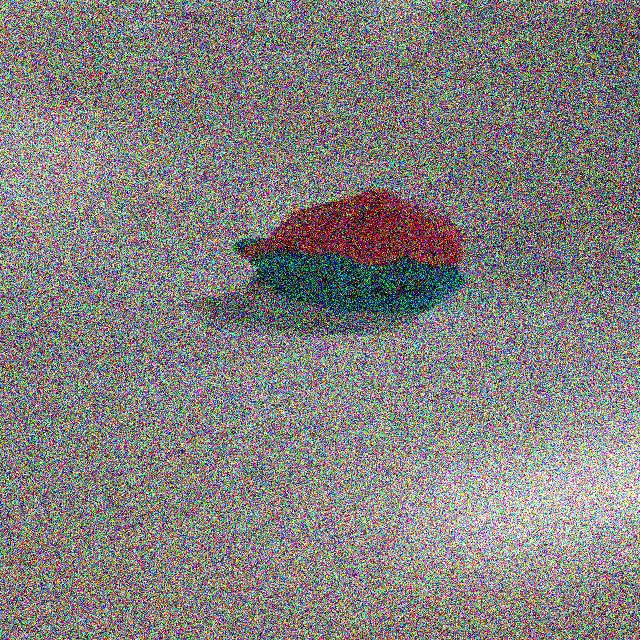House: (231, 186, 472, 319)
